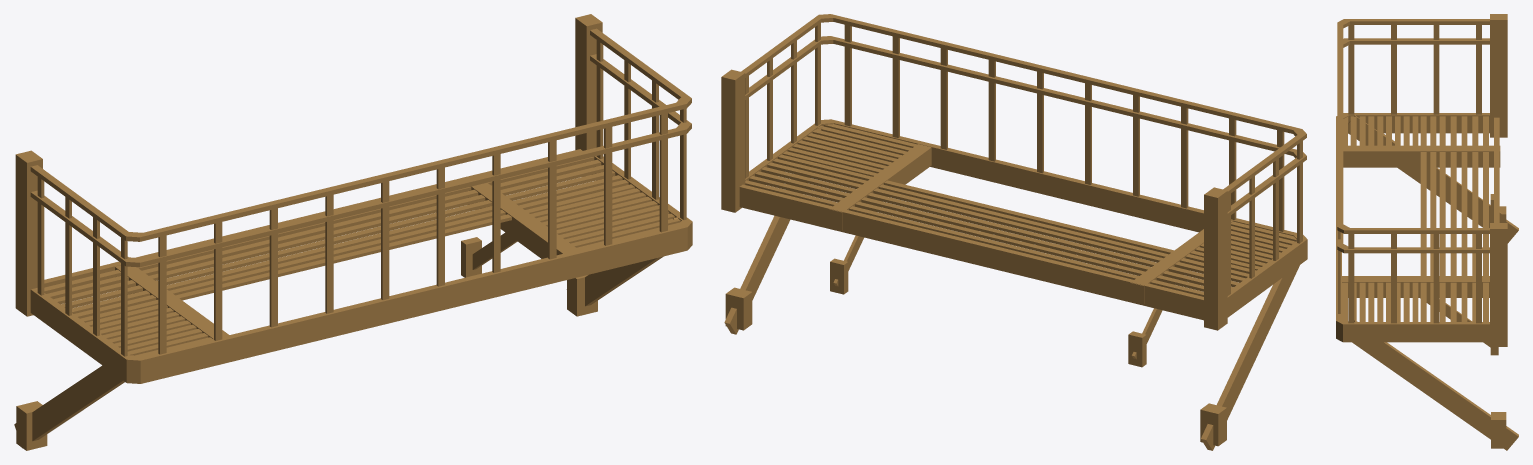
File: Fire_Escape_Platform_Top.fbx
3 views of the same model, side by side, from view 1: azimuth 30°, elevation 25°; view 2: azimuth 150°, elevation 25°; view 3: azimuth 270°, elevation 25° (orthographic). The views are drawn at different scales.
Visible parts, largest first — view 1: Fire_Escape_Plateform_Top; view 2: Fire_Escape_Plateform_Top; view 3: Fire_Escape_Plateform_Top.
Part boxes in pixels (<box>): Fire_Escape_Plateform_Top: <box>14,14,692,450</box>; Fire_Escape_Plateform_Top: <box>721,14,1307,450</box>; Fire_Escape_Plateform_Top: <box>1336,14,1518,450</box>.
Size of the model in its own units: 632 by 227 by 309.
